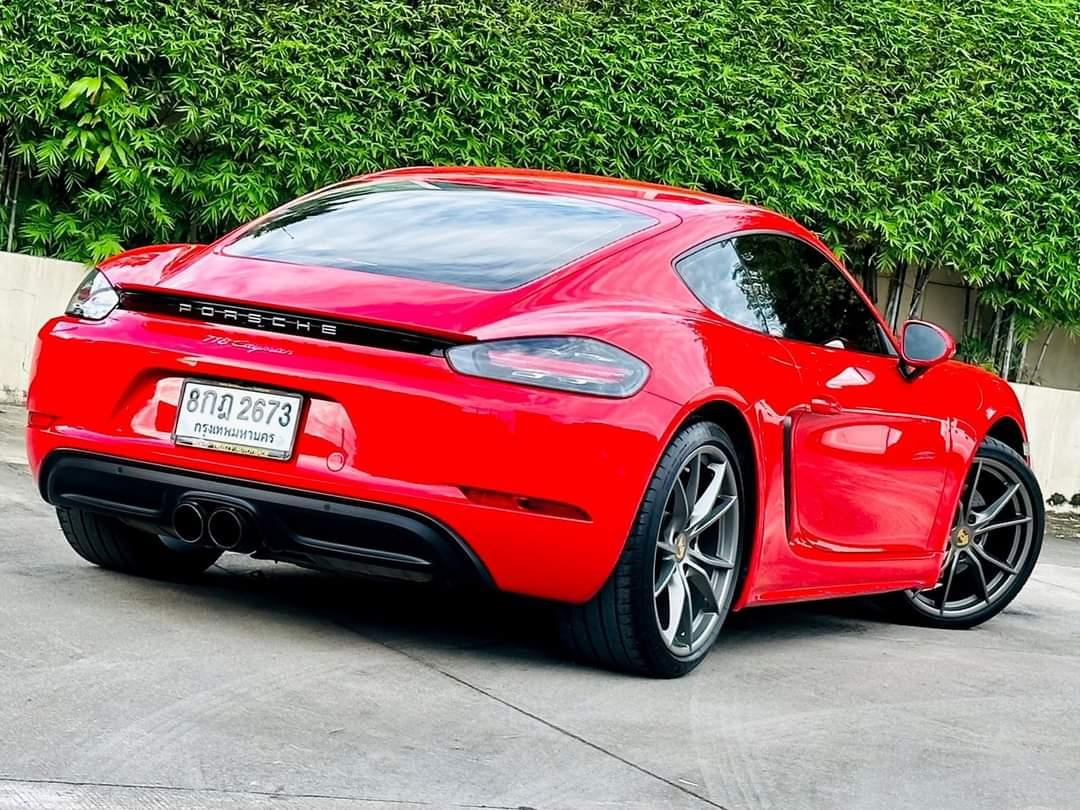license-plate: (169, 369, 309, 463)
